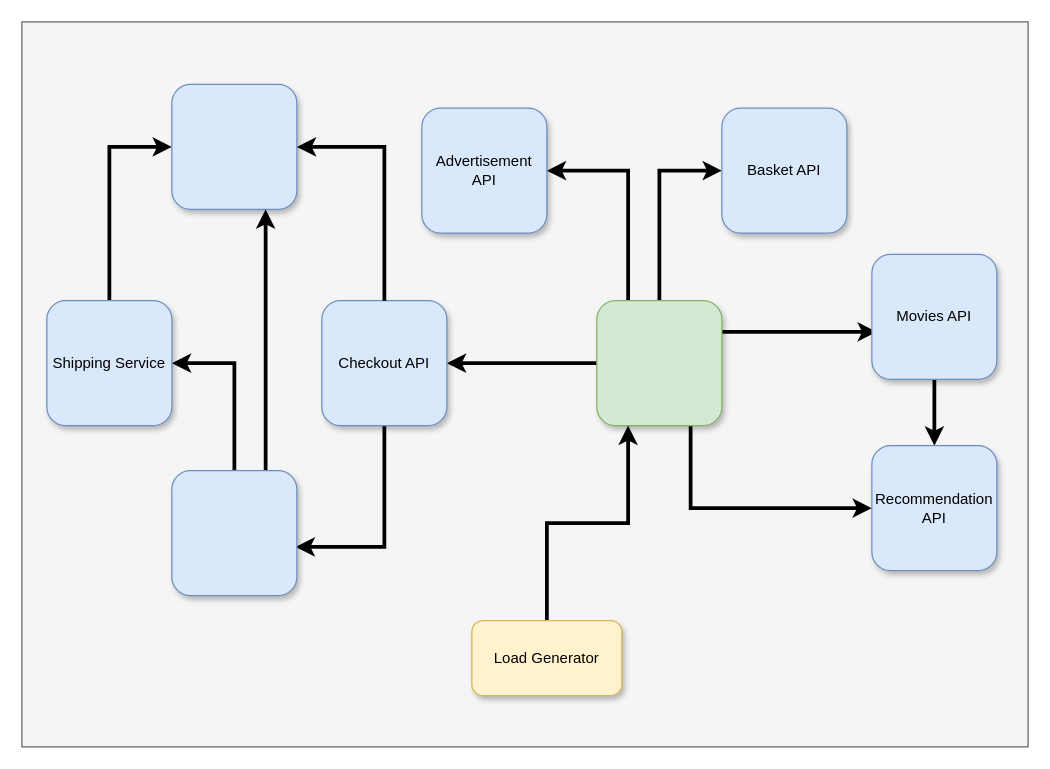
Some shapes in this 1050 by 769 pixel diagram are drawn without their labels. Each missing label, with the centre of its shape:
"Frontend" goes at pixel 660 364.
"Notification Service" goes at pixel 235 148.
"Order Processor" goes at pixel 235 534.
